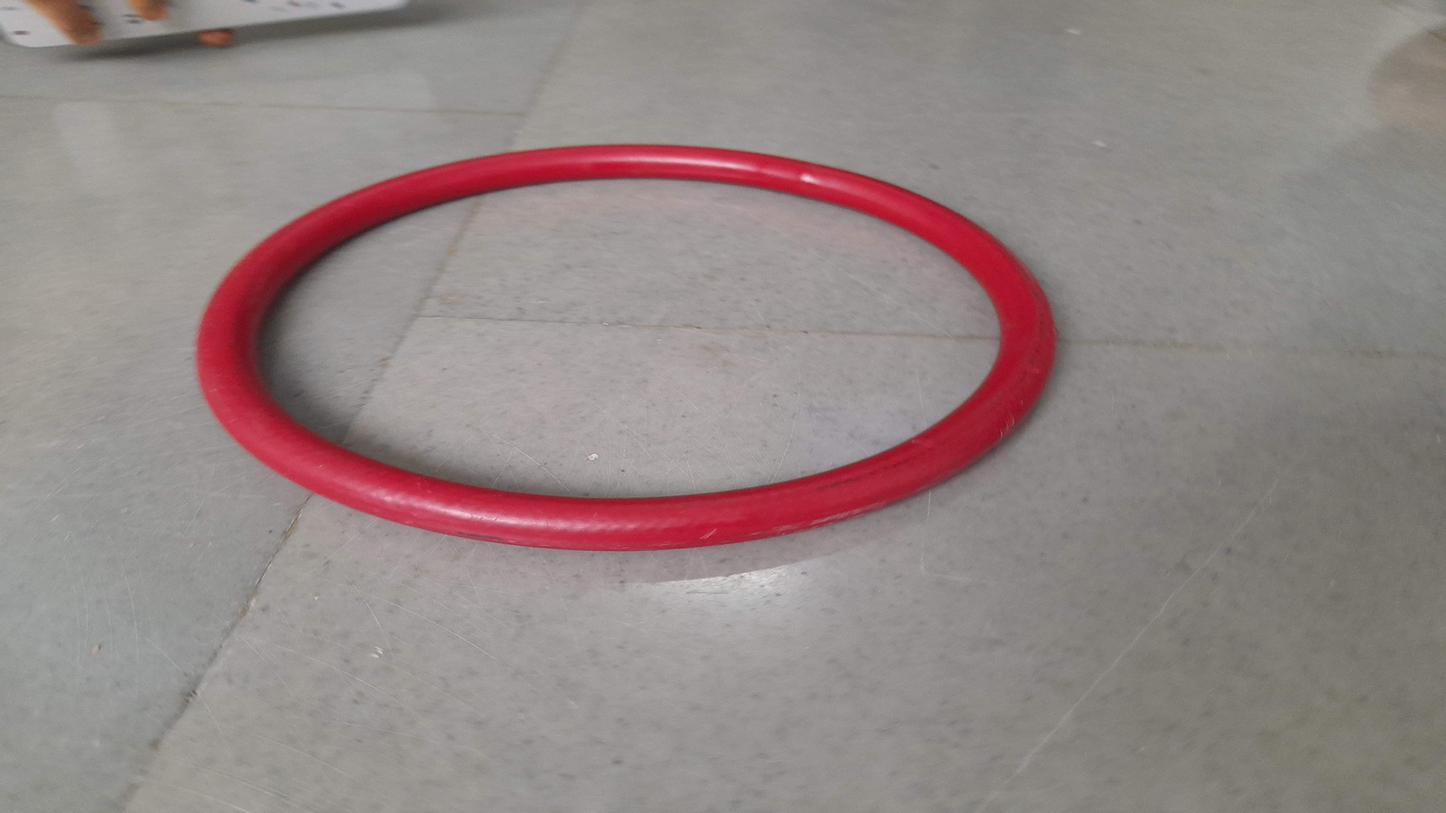Red ring: (203, 148, 1059, 553)
